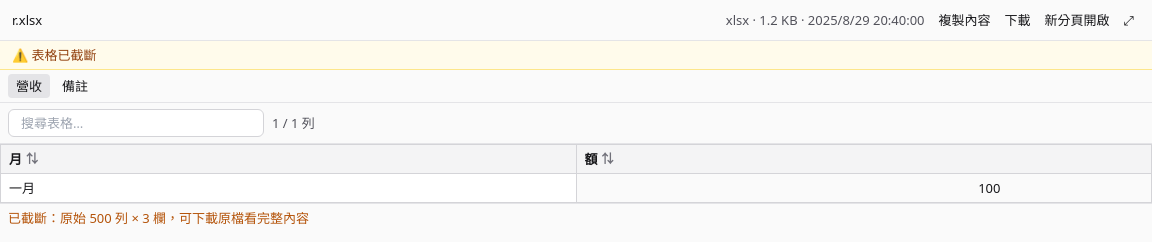
Test: FilePreview 各格式 › xlsx：多工作表可切換，截斷會提示
Expected: the element with test id "xlsx-preview" shows "一月", 9,179 -> 35,197
Expected: the list with test id "preview-warnings" shows "表格已截斷", 31,46 -> 96,64
Click the tab with test id "sheet-tab-備註" at (75, 86), box 54,74 -> 96,98
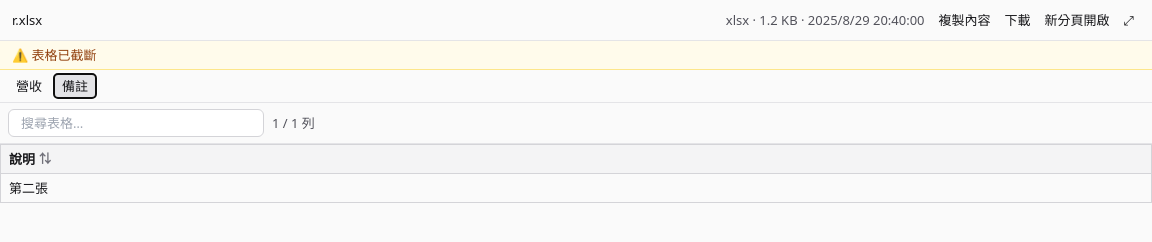
Expected: the element with test id "table-preview" shows "第二張", 9,179 -> 48,197
